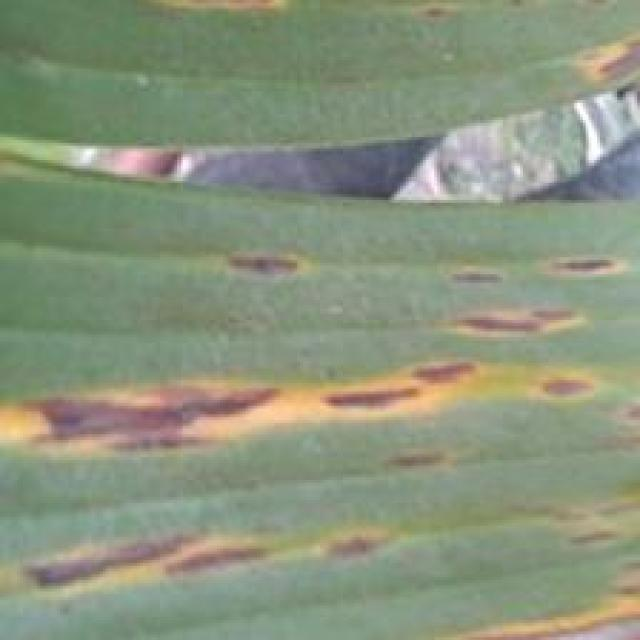Early_leaf_spot: (0, 231, 640, 640), (85, 0, 640, 97)
